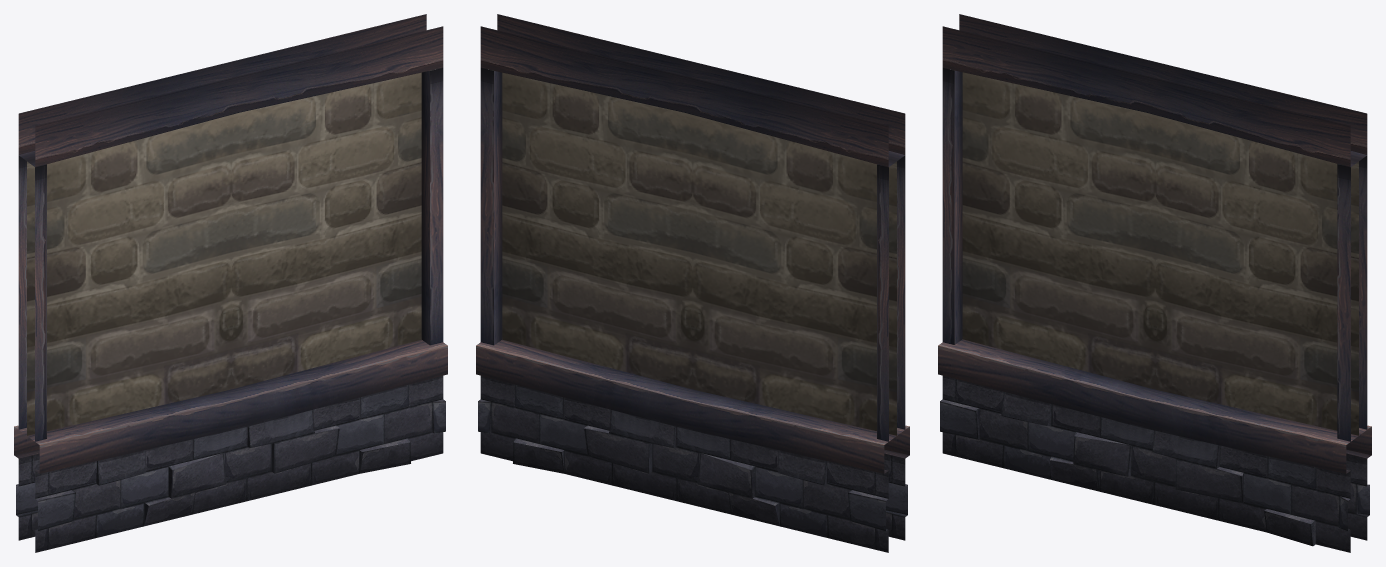
File: Wall_2sided_detailed_Bricks.fbx
The picture shows the model from 3 angles, left to right: view 1: azimuth 30°, elevation 25°; view 2: azimuth 150°, elevation 25°; view 3: azimuth 330°, elevation 25°; orthographic projection.
Parts seen in each view (by area): view 1: Wall_2sided_detailed_Bricks; view 2: Wall_2sided_detailed_Bricks; view 3: Wall_2sided_detailed_Bricks.
Part boxes in pixels (x1,y1,x2,y2): Wall_2sided_detailed_Bricks: [14, 14, 447, 552]; Wall_2sided_detailed_Bricks: [476, 14, 909, 552]; Wall_2sided_detailed_Bricks: [938, 14, 1371, 552].
Size of the model in its own units: 0.6266 by 0.6266 by 0.0678.
